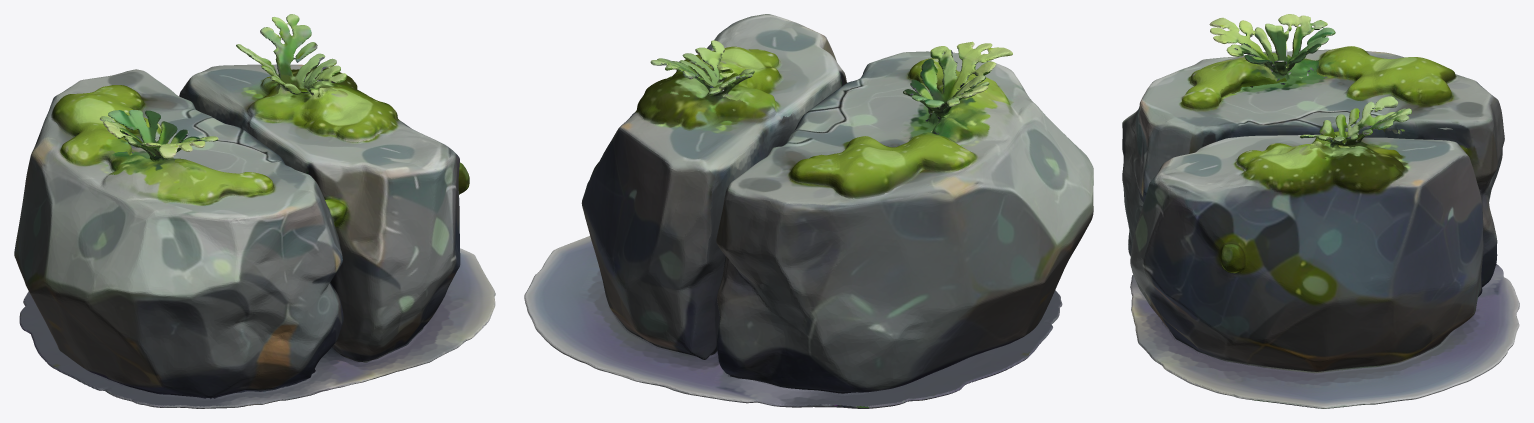
File: rock_split_paint.glb
The picture shows the model from 3 angles, left to right: view 1: azimuth 30°, elevation 25°; view 2: azimuth 150°, elevation 25°; view 3: azimuth 270°, elevation 25°; orthographic projection. The views are drawn at different scales.
Parts seen in each view (by area): view 1: temp_mesh.ply; view 2: temp_mesh.ply; view 3: temp_mesh.ply.
Part boxes in pixels (bbox=[...]): temp_mesh.ply: bbox=[14, 14, 495, 408]; temp_mesh.ply: bbox=[524, 14, 1093, 408]; temp_mesh.ply: bbox=[1122, 14, 1519, 408].
Size of the model in its own units: 1.97 by 1.02 by 1.6.
Materials: 1 (1 with a texture image).
